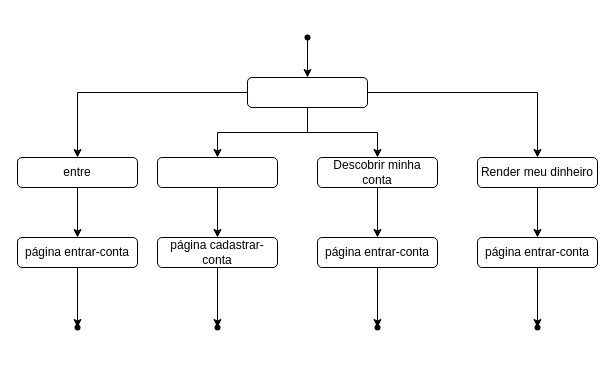
Some shapes in this 615 by 365 pixel diagram are drawn without their labels. Each missing label, with the centre of its shape:
crie sua conta: the point at 217,172
página home-page: the point at 307,92
